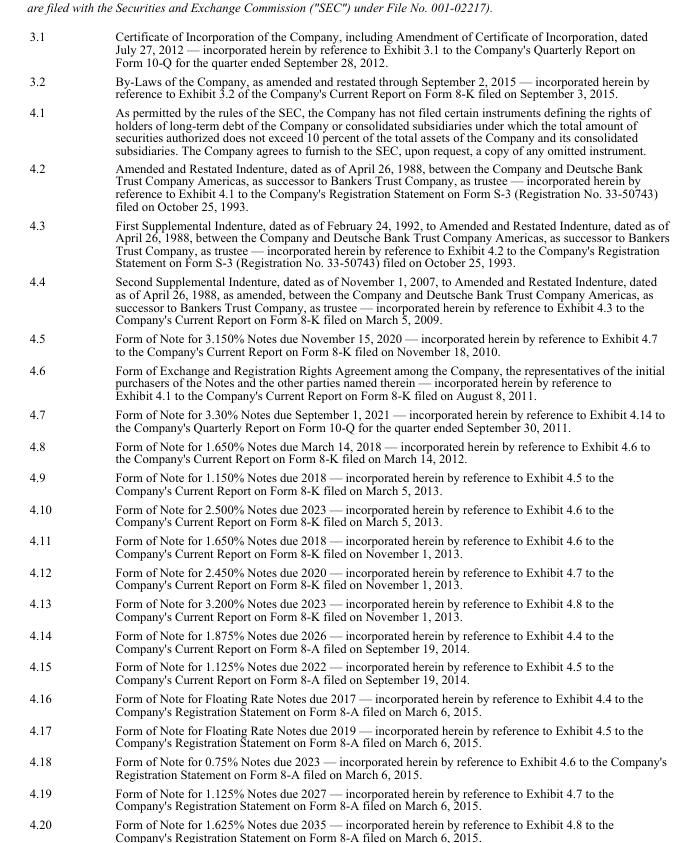table: (28, 29, 668, 812)
table column: (82, 29, 668, 812), (28, 29, 82, 812)
table row: (28, 214, 668, 271), (28, 271, 668, 328), (28, 102, 668, 158), (28, 158, 668, 214), (28, 360, 668, 404), (28, 29, 668, 70), (28, 70, 668, 102), (28, 328, 668, 360), (28, 435, 668, 467), (28, 498, 668, 530), (28, 530, 668, 562), (28, 593, 668, 625), (28, 656, 668, 688), (28, 719, 668, 751), (28, 751, 668, 783), (28, 404, 668, 435), (28, 467, 668, 498), (28, 562, 668, 593), (28, 625, 668, 656), (28, 688, 668, 719), (28, 783, 668, 812)
